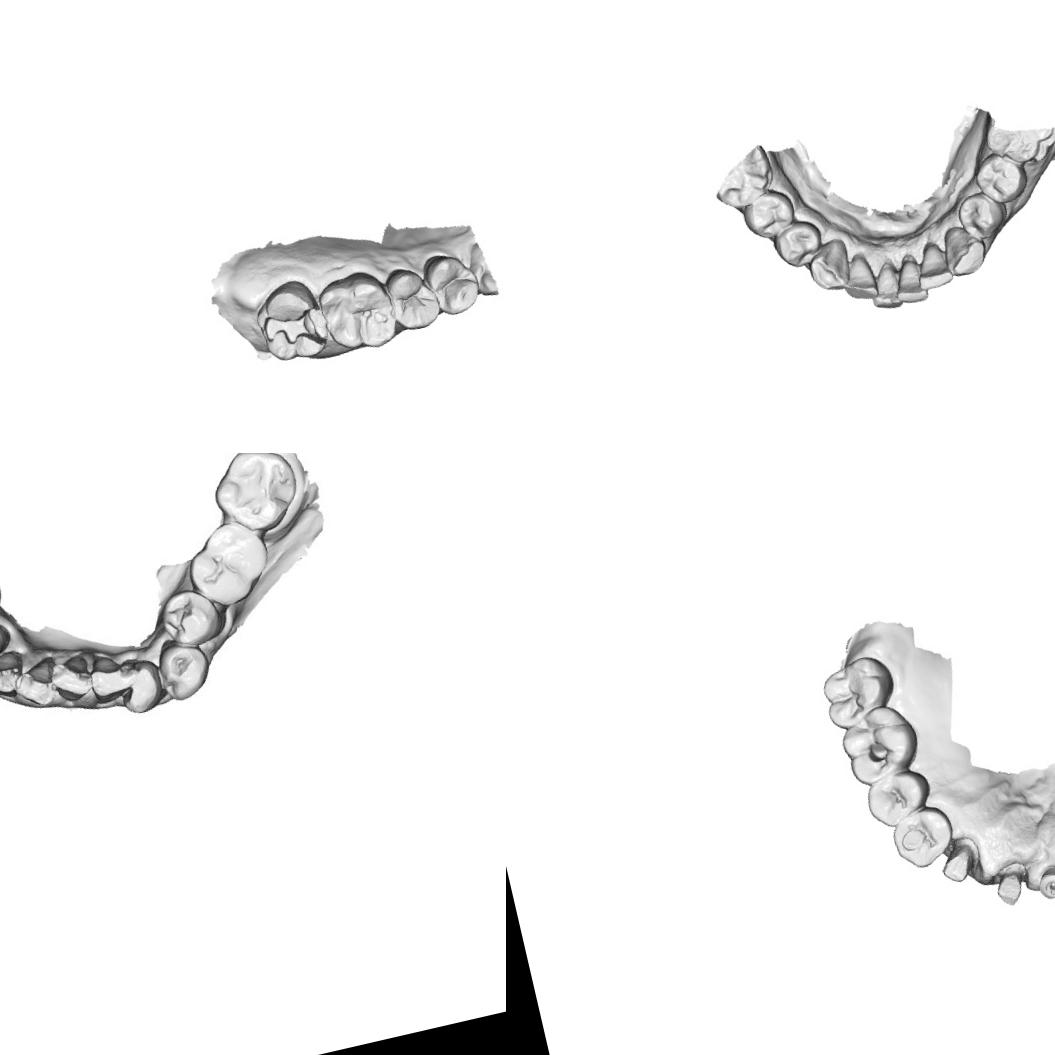canine: (937, 220, 992, 279), (803, 235, 856, 296), (117, 656, 167, 717), (0, 609, 14, 674)
crown: (934, 833, 985, 886), (990, 859, 1034, 910)
implant_minus: (1034, 862, 1055, 902)
incisor: (88, 652, 139, 704), (12, 658, 62, 709), (836, 250, 880, 305), (910, 239, 955, 292), (888, 252, 930, 308), (50, 650, 98, 699), (864, 258, 905, 313), (0, 650, 25, 698)
inlay: (255, 296, 330, 359)
molar: (180, 512, 276, 611), (202, 453, 306, 543), (313, 262, 403, 357), (834, 698, 925, 789), (816, 650, 902, 734), (706, 142, 779, 214), (983, 117, 1055, 172)
premolar: (886, 800, 960, 874), (419, 244, 487, 322), (152, 583, 222, 654), (379, 261, 445, 336), (862, 766, 936, 832), (149, 634, 215, 702), (970, 146, 1032, 209), (738, 185, 800, 243), (952, 186, 1012, 244), (768, 216, 828, 272)
